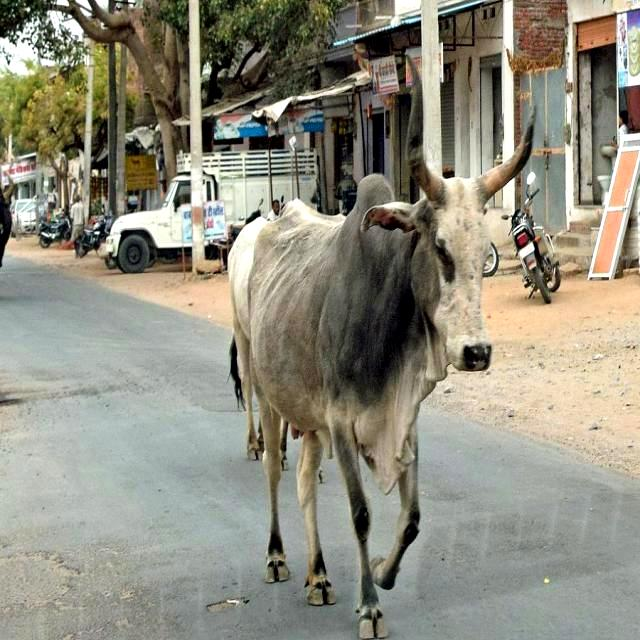COW: (229, 128, 531, 640)
